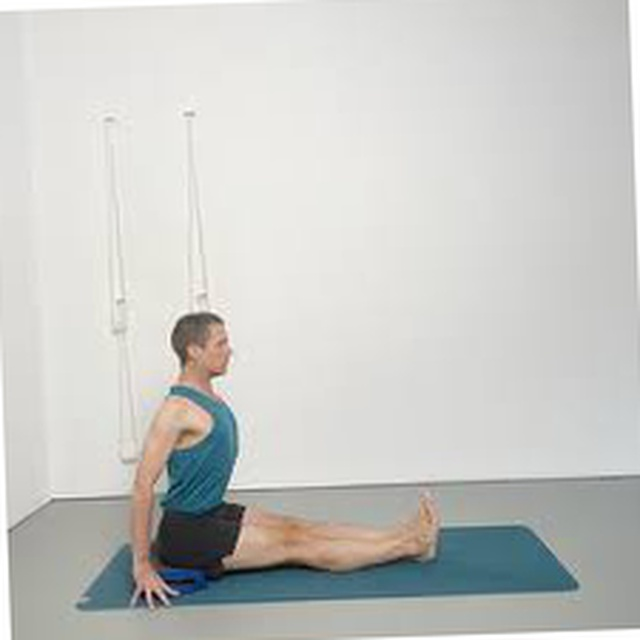Staff_Pose: (129, 312, 441, 608)
